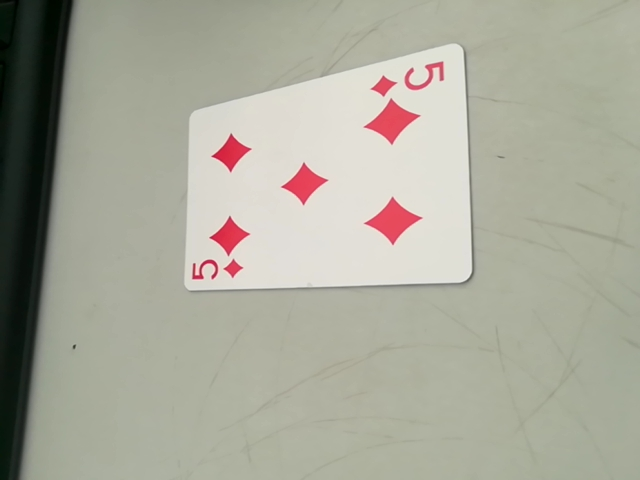fk 5: (369, 58, 452, 98), (190, 254, 249, 289)
